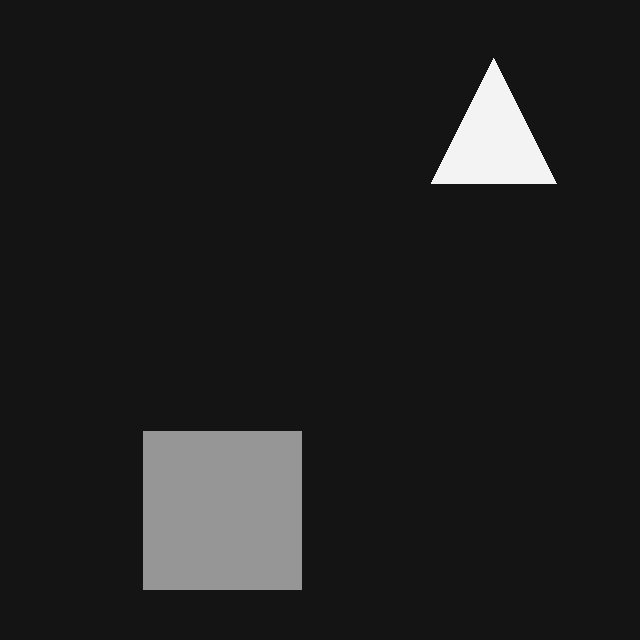square: (143, 431, 301, 589)
triangle: (431, 58, 556, 183)
